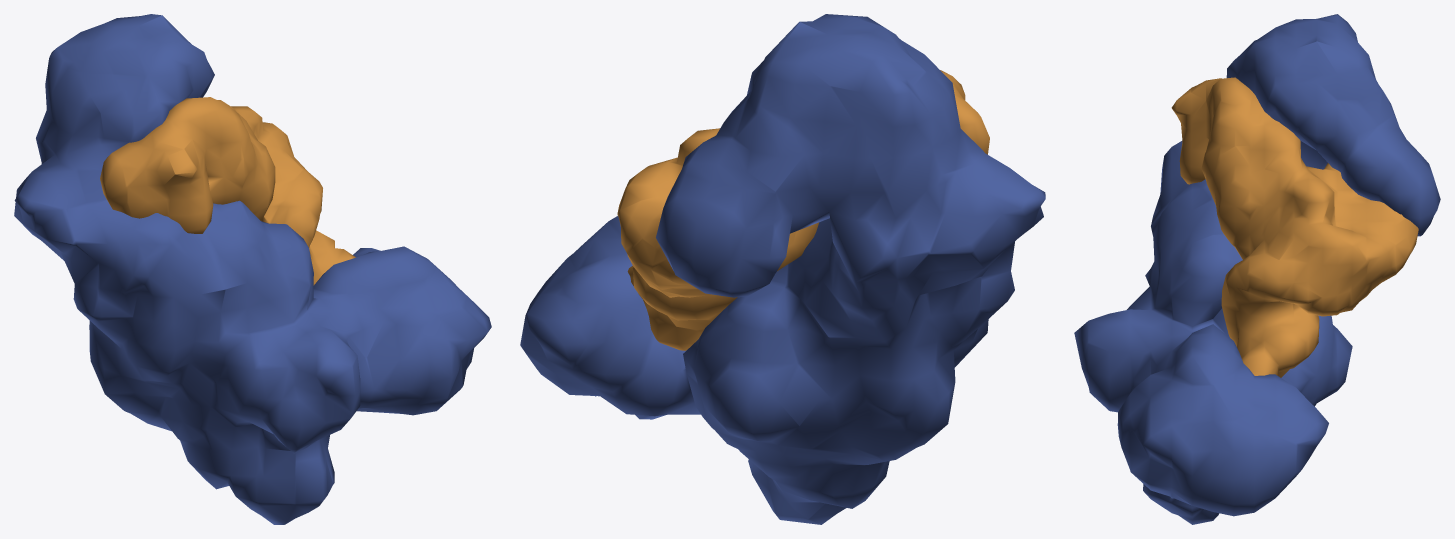
File: onemer1GAX.fbx
The picture shows the model from 3 angles, left to right: view 1: azimuth 30°, elevation 25°; view 2: azimuth 150°, elevation 25°; view 3: azimuth 270°, elevation 25°; orthographic projection. The views are drawn at different scales.
Visible parts, largest first — view 1: CoarseMS_1gaxBioSimp_Selection0, CoarseMS_1gaxBioSimp_Selection2; view 2: CoarseMS_1gaxBioSimp_Selection0, CoarseMS_1gaxBioSimp_Selection2; view 3: CoarseMS_1gaxBioSimp_Selection0, CoarseMS_1gaxBioSimp_Selection2.
Boxes of the visible parts, bbox=[...] form: CoarseMS_1gaxBioSimp_Selection0: bbox=[14, 14, 491, 524]; CoarseMS_1gaxBioSimp_Selection2: bbox=[100, 97, 355, 285]; CoarseMS_1gaxBioSimp_Selection0: bbox=[520, 14, 1045, 524]; CoarseMS_1gaxBioSimp_Selection2: bbox=[617, 70, 989, 350]; CoarseMS_1gaxBioSimp_Selection0: bbox=[1074, 14, 1440, 524]; CoarseMS_1gaxBioSimp_Selection2: bbox=[1171, 77, 1418, 377].
Size of the model in its own units: 110 by 117 by 85.44.
